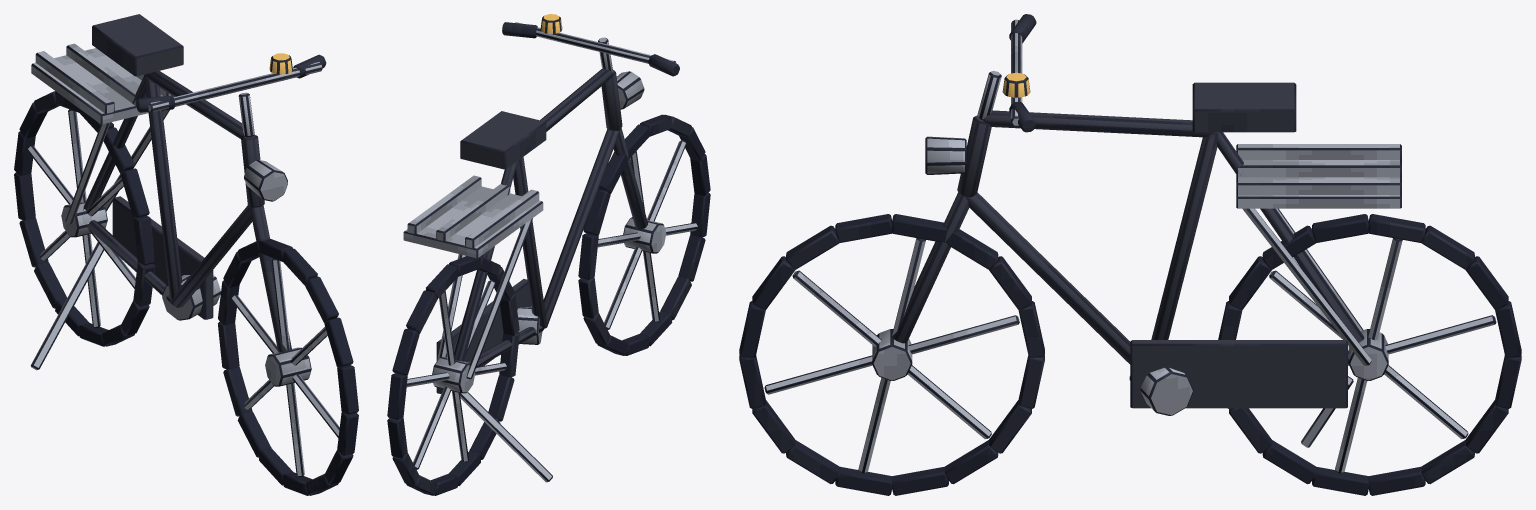
The model's file is cn_bicycle_0.glb.
3 renders of one model, left to right at view 1: azimuth 30°, elevation 25°; view 2: azimuth 150°, elevation 25°; view 3: azimuth 270°, elevation 25°, orthographic. The views are drawn at different scales.
Visible parts, largest first — view 1: cn_bicycle_1; view 2: cn_bicycle_1; view 3: cn_bicycle_1.
Part boxes in pixels (bbox=[...]): cn_bicycle_1: bbox=[14, 14, 358, 495]; cn_bicycle_1: bbox=[387, 14, 710, 495]; cn_bicycle_1: bbox=[739, 14, 1521, 495].
Size of the model in its own units: 0.6096 by 1.18 by 1.89.
4 materials, 4 textured.
